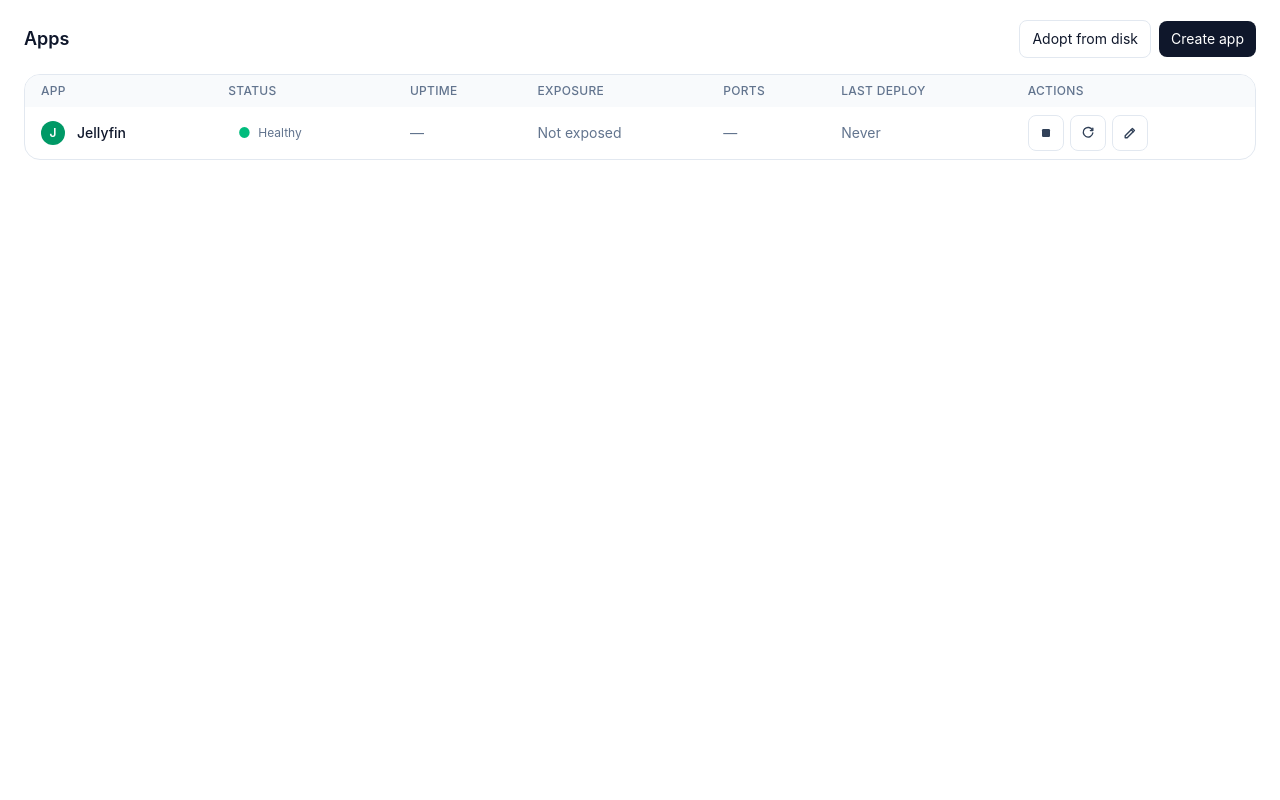
Test case: AdminApps › row actions › Start/Stop toggle › confirms before stopping, the one destructive row action
Step 1. Click the button named "Stop" → (1046, 133), box [1028,115,1064,151]
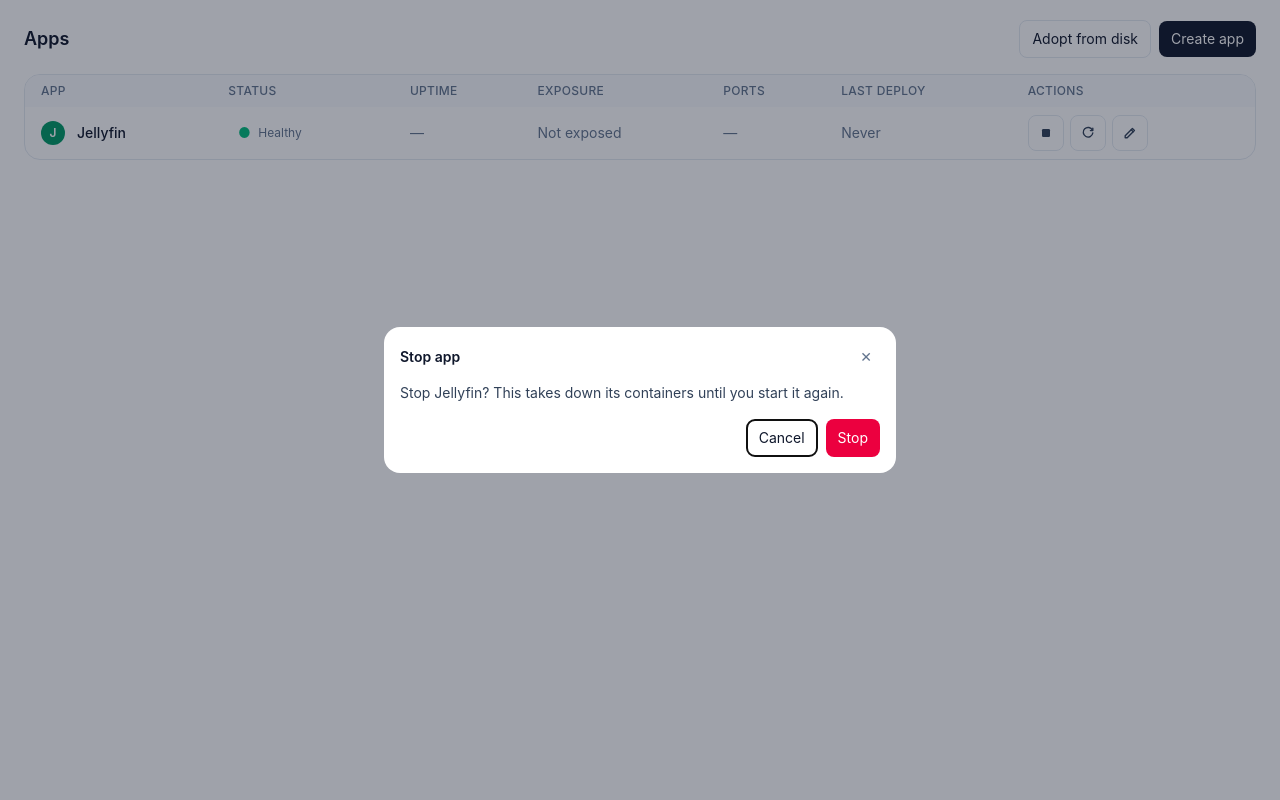
expect the text "Jellyfin" is shown: met, box [400,384,844,401]
